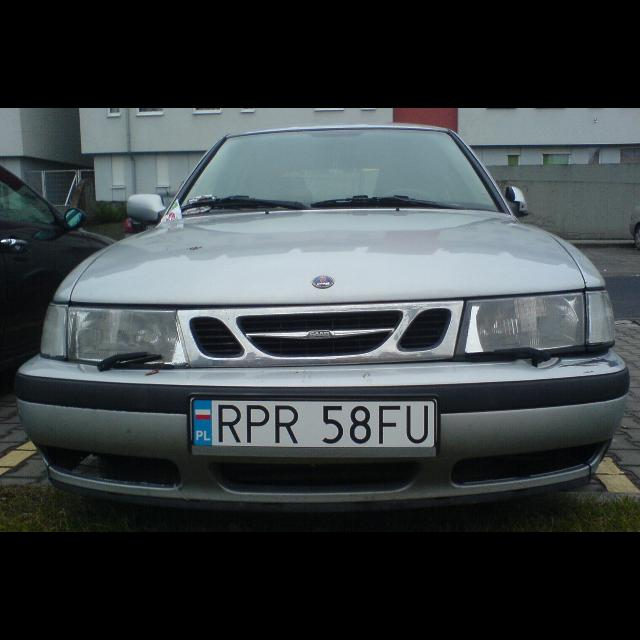pl_license_plate: (190, 399, 436, 449)
